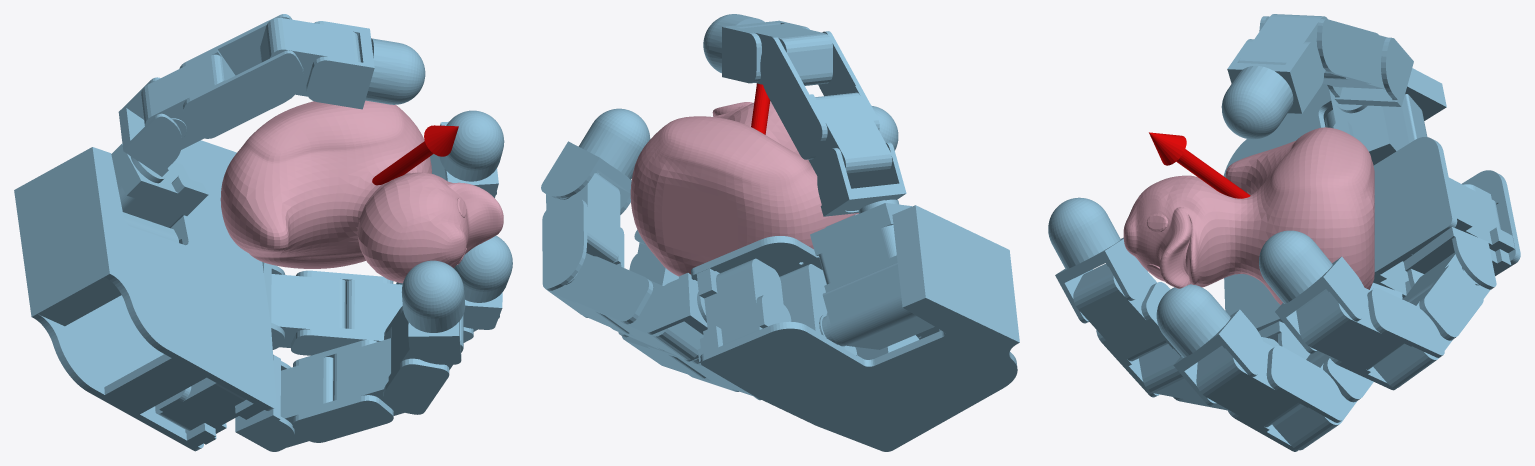
3 views of the same model, side by side, from view 1: azimuth 30°, elevation 25°; view 2: azimuth 150°, elevation 25°; view 3: azimuth 270°, elevation 25° (orthographic).
Parts seen in each view (by area): view 1: world, rubber_duck.stl; view 2: world, rubber_duck.stl; view 3: world, rubber_duck.stl.
Part boxes in pixels (x1,y1,x2,y2): world: (14,14,512,451); rubber_duck.stl: (220,100,503,283); world: (541,14,1019,451); rubber_duck.stl: (630,101,858,276); world: (1048,14,1520,451); rubber_duck.stl: (1123,127,1374,304).
Size of the model in its own units: 0.2073 by 0.1724 by 0.1805.
